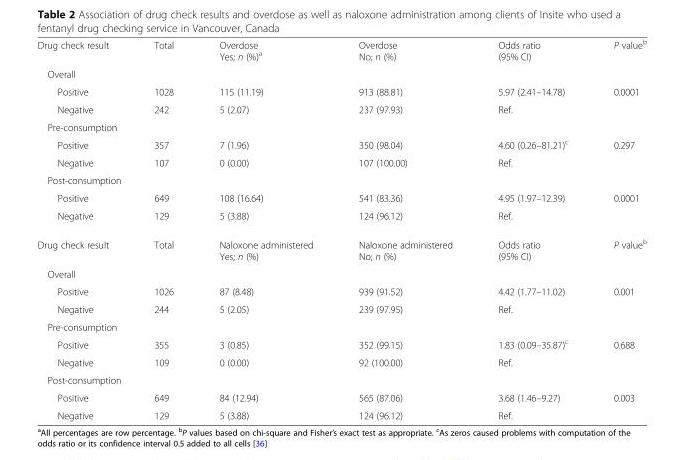table: (36, 37, 646, 420)
table column: (195, 37, 335, 420), (335, 37, 474, 420), (474, 37, 590, 420), (36, 37, 130, 420), (130, 37, 195, 420), (590, 37, 646, 420)
table projected row header: (36, 64, 646, 82), (36, 264, 646, 282), (36, 370, 646, 388), (36, 171, 646, 188), (36, 317, 646, 334), (36, 118, 646, 134)
table row: (36, 229, 646, 264), (36, 37, 646, 64), (36, 206, 646, 229), (36, 134, 646, 153), (36, 334, 646, 353), (36, 64, 646, 82), (36, 82, 646, 100), (36, 100, 646, 118), (36, 153, 646, 171), (36, 188, 646, 206), (36, 264, 646, 282), (36, 282, 646, 300), (36, 370, 646, 388), (36, 388, 646, 406), (36, 171, 646, 188), (36, 300, 646, 317), (36, 317, 646, 334), (36, 353, 646, 370), (36, 118, 646, 134), (36, 406, 646, 420)
